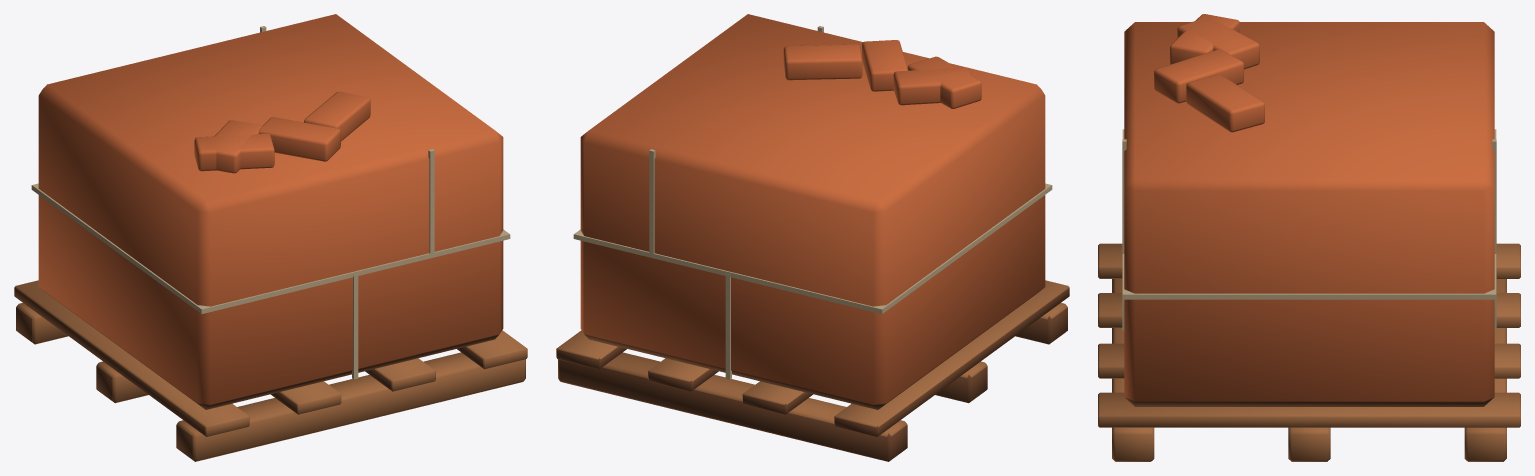
The model's file is BrickPallet.fbx.
The picture shows the model from 3 angles, left to right: view 1: azimuth 30°, elevation 25°; view 2: azimuth 150°, elevation 25°; view 3: azimuth 270°, elevation 25°; orthographic projection. The views are drawn at different scales.
Parts seen in each view (by area): view 1: BrickPallet; view 2: BrickPallet; view 3: BrickPallet.
Part boxes in pixels (x1,y1,x2,y2): BrickPallet: [14, 14, 527, 461]; BrickPallet: [556, 14, 1069, 461]; BrickPallet: [1098, 14, 1520, 461].
Bounding box in the file's own units: 1.2 × 0.93 × 1.2.
1 material, 1 textured.
